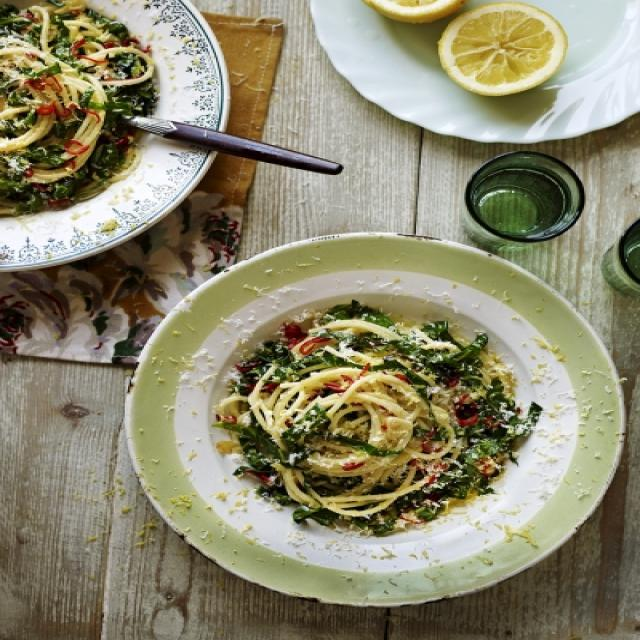Oil pasta: (205, 247, 603, 517)
